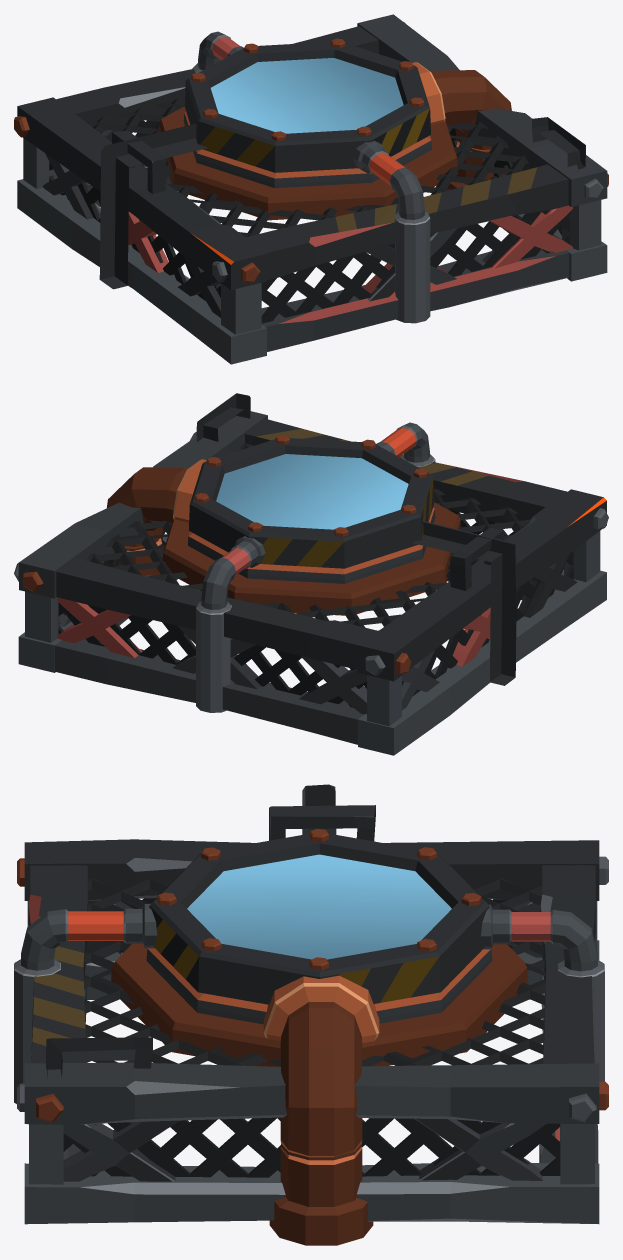
Rendered from EA_FrostP_Portal.glb.
3 renders of one model, top to bottom at view 1: azimuth 30°, elevation 25°; view 2: azimuth 150°, elevation 25°; view 3: azimuth 270°, elevation 25°, orthographic. The views are drawn at different scales.
Visible parts, largest first — view 1: EA_FrostP_Portal; view 2: EA_FrostP_Portal; view 3: EA_FrostP_Portal.
Boxes of the visible parts, <box> form: EA_FrostP_Portal: <box>14,14,608,364</box>; EA_FrostP_Portal: <box>14,393,608,755</box>; EA_FrostP_Portal: <box>14,784,608,1245</box>.
Bounding box in the file's own units: 2.01 × 0.7522 × 1.88.
Materials: 1 (1 with a texture image).
